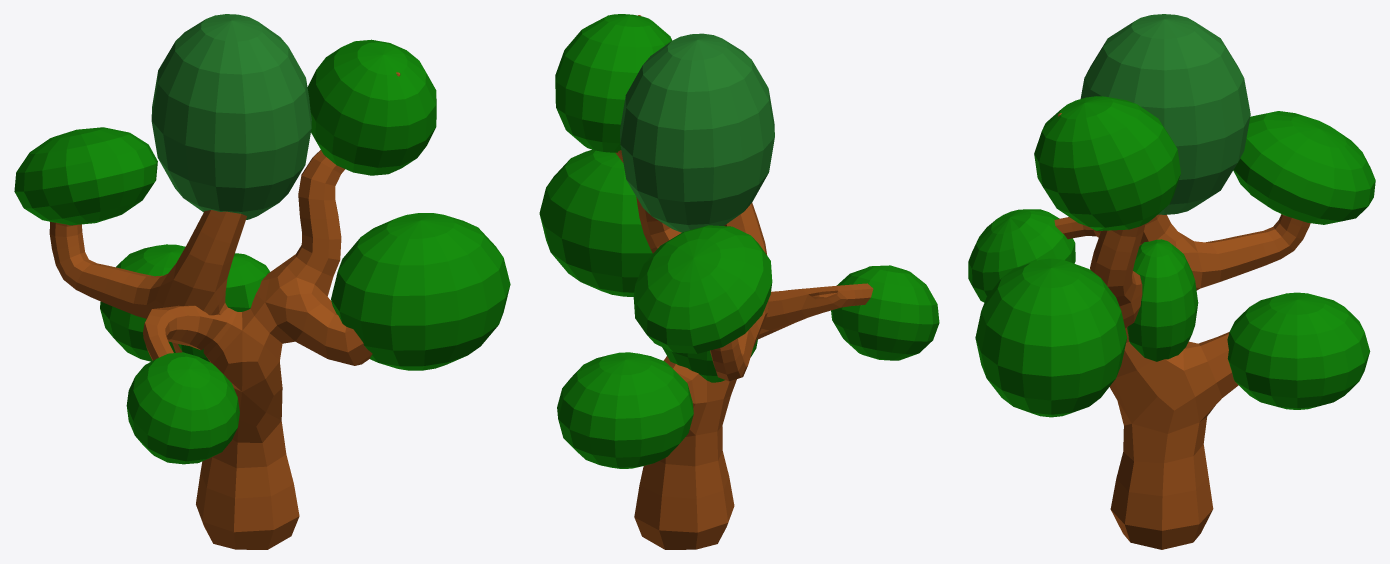
File: boom.fbx
The picture shows the model from 3 angles, left to right: view 1: azimuth 30°, elevation 25°; view 2: azimuth 150°, elevation 25°; view 3: azimuth 270°, elevation 25°; orthographic projection. The views are drawn at different scales.
Visible parts, largest first — view 1: Sphere, Cube, Sphere.001; view 2: Sphere, Sphere.001, Cube; view 3: Sphere, Cube, Sphere.001.
Boxes of the visible parts, box(x1,y1,x2,y2) form: Sphere: box(14, 39, 510, 464); Cube: box(49, 72, 400, 549); Sphere.001: box(151, 14, 311, 219); Sphere: box(539, 14, 939, 468); Sphere.001: box(620, 33, 774, 232); Cube: box(615, 15, 873, 549); Sphere: box(968, 96, 1375, 417); Cube: box(1054, 113, 1310, 549); Sphere.001: box(1080, 14, 1250, 214).
Bounding box in the file's own units: 3.13 × 4.1 × 2.94.
